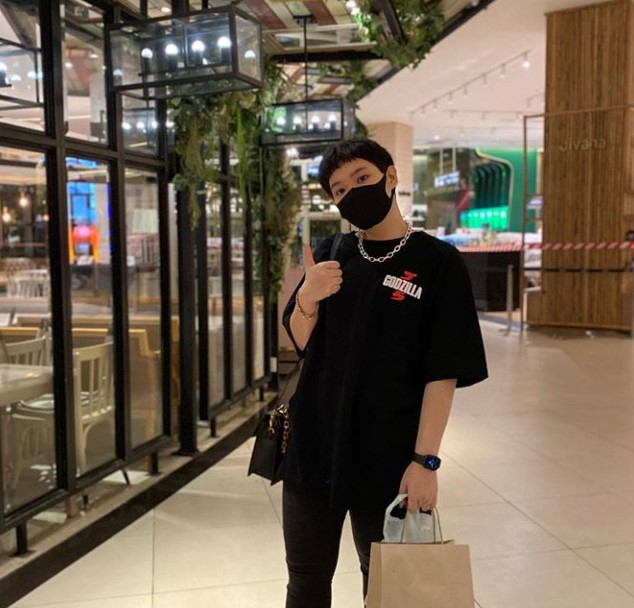face_with_mask: (321, 139, 402, 231)
